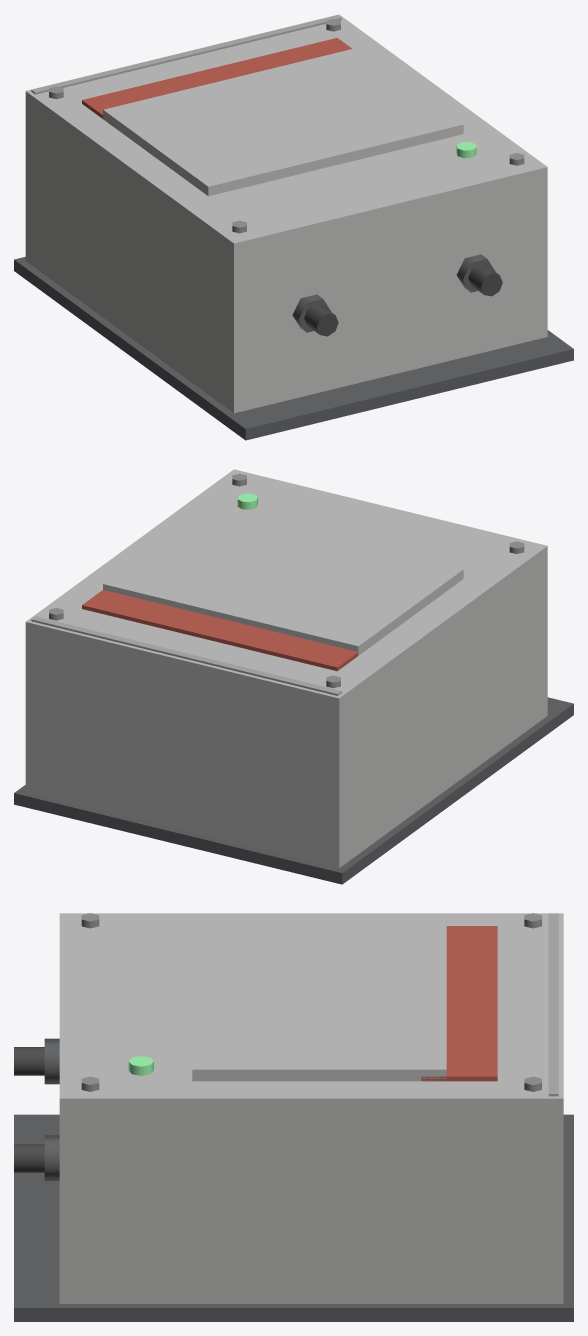
The model's file is lgNot_steel.glb.
The picture shows the model from 3 angles, top to bottom: view 1: azimuth 30°, elevation 25°; view 2: azimuth 150°, elevation 25°; view 3: azimuth 270°, elevation 25°; orthographic projection. The views are drawn at different scales.
Visible parts, largest first — view 1: lgNot_steel; view 2: lgNot_steel; view 3: lgNot_steel.
Boxes of the visible parts, x1=… form: lgNot_steel: x1=14, y1=14, x2=573, y2=440; lgNot_steel: x1=14, y1=469, x2=573, y2=884; lgNot_steel: x1=14, y1=913, x2=573, y2=1321.
Size of the model in its own units: 0.18 by 0.1 by 0.22.
